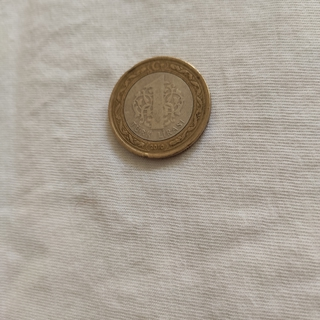1TL: (105, 54, 213, 161)
